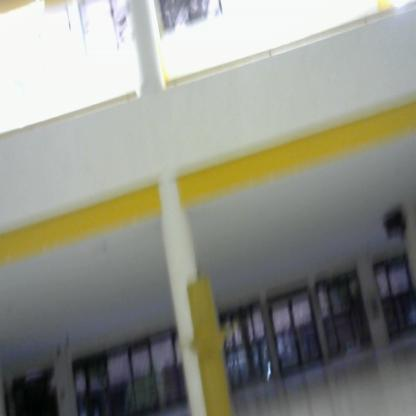pole: (178, 269, 240, 416)
